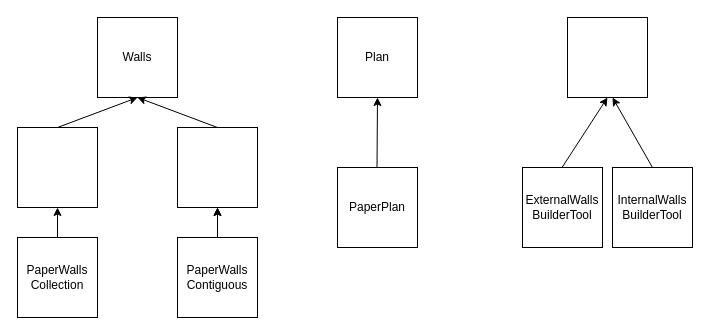
The diagram is 710 pixels wide and 335 high, and some of its shapes have lost their labels. The centre of each missing label's shape, as x and y in pixels:
"PaperTool" belongs at [607,57].
"Walls Collection" belongs at [57,167].
"Walls Contiguous" belongs at [217,167].
